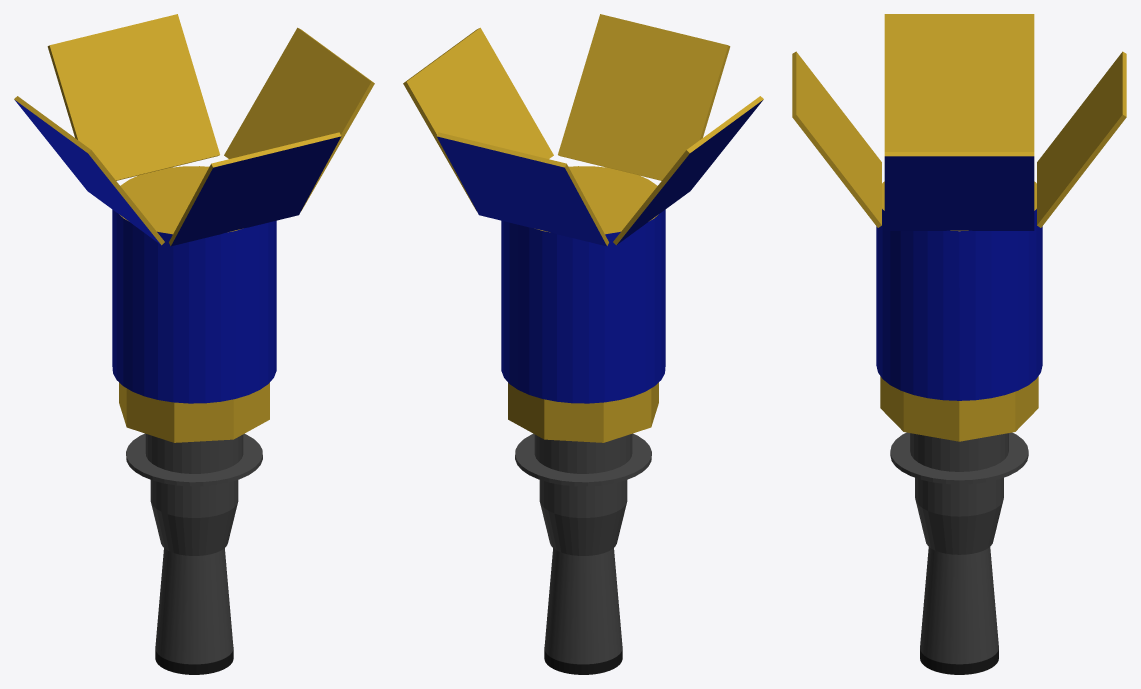
File: dsp.obj
3 views of the same model, side by side, from view 1: azimuth 30°, elevation 25°; view 2: azimuth 150°, elevation 25°; view 3: azimuth 270°, elevation 25° (orthographic).
Visible parts, largest first — view 1: DSP, Cube.001, Cube, Cube.003, Cylinder.006, Cylinder.001, Cube.002, Cylinder.002, Cylinder.005, Cylinder.003, Cylinder.004, Cylinder.007; view 2: DSP, Cube.003, Cube, Cube.001, Cylinder.006, Cylinder.001, Cube.002, Cylinder.002, Cylinder.005, Cylinder.003, Cylinder.004, Cylinder.007; view 3: DSP, Cube.002, Cube, Cylinder.006, Cube.001, Cube.003, Cylinder.001, Cylinder.002, Cylinder.005, Cylinder.003, Cylinder.004, Cylinder.007.
Part boxes in pixels (x1=…): DSP: x1=112, y1=166, x2=276, y2=403; Cube.001: x1=47, y1=14, x2=219, y2=180; Cube: x1=224, y1=27, x2=374, y2=211; Cube.003: x1=169, y1=132, x2=341, y2=246; Cylinder.006: x1=155, y1=548, x2=233, y2=664; Cylinder.001: x1=119, y1=382, x2=269, y2=442; Cube.002: x1=14, y1=96, x2=164, y2=245; Cylinder.002: x1=145, y1=434, x2=243, y2=473; Cylinder.005: x1=151, y1=501, x2=238, y2=555; Cylinder.003: x1=126, y1=433, x2=262, y2=486; Cylinder.004: x1=150, y1=480, x2=238, y2=517; Cylinder.007: x1=155, y1=647, x2=233, y2=674; DSP: x1=501, y1=166, x2=665, y2=403; Cube.003: x1=558, y1=14, x2=730, y2=180; Cube: x1=403, y1=27, x2=553, y2=211; Cube.001: x1=436, y1=132, x2=608, y2=246; Cylinder.006: x1=544, y1=548, x2=622, y2=664; Cylinder.001: x1=508, y1=382, x2=658, y2=442; Cube.002: x1=613, y1=96, x2=763, y2=245; Cylinder.002: x1=534, y1=434, x2=632, y2=473; Cylinder.005: x1=539, y1=501, x2=626, y2=555; Cylinder.003: x1=515, y1=433, x2=651, y2=486; Cylinder.004: x1=539, y1=480, x2=627, y2=517; Cylinder.007: x1=544, y1=647, x2=622, y2=674; DSP: x1=876, y1=181, x2=1042, y2=400; Cube.002: x1=884, y1=14, x2=1034, y2=151; Cube: x1=884, y1=152, x2=1034, y2=230; Cylinder.006: x1=920, y1=547, x2=998, y2=664; Cube.001: x1=1037, y1=51, x2=1126, y2=227; Cube.003: x1=792, y1=51, x2=881, y2=227; Cylinder.001: x1=880, y1=376, x2=1038, y2=441; Cylinder.002: x1=910, y1=433, x2=1008, y2=471; Cylinder.005: x1=916, y1=502, x2=1002, y2=554; Cylinder.003: x1=890, y1=432, x2=1028, y2=484; Cylinder.004: x1=915, y1=477, x2=1003, y2=516; Cylinder.007: x1=920, y1=649, x2=998, y2=674.
Size of the model in its own units: 5.27 by 10 by 5.27.
